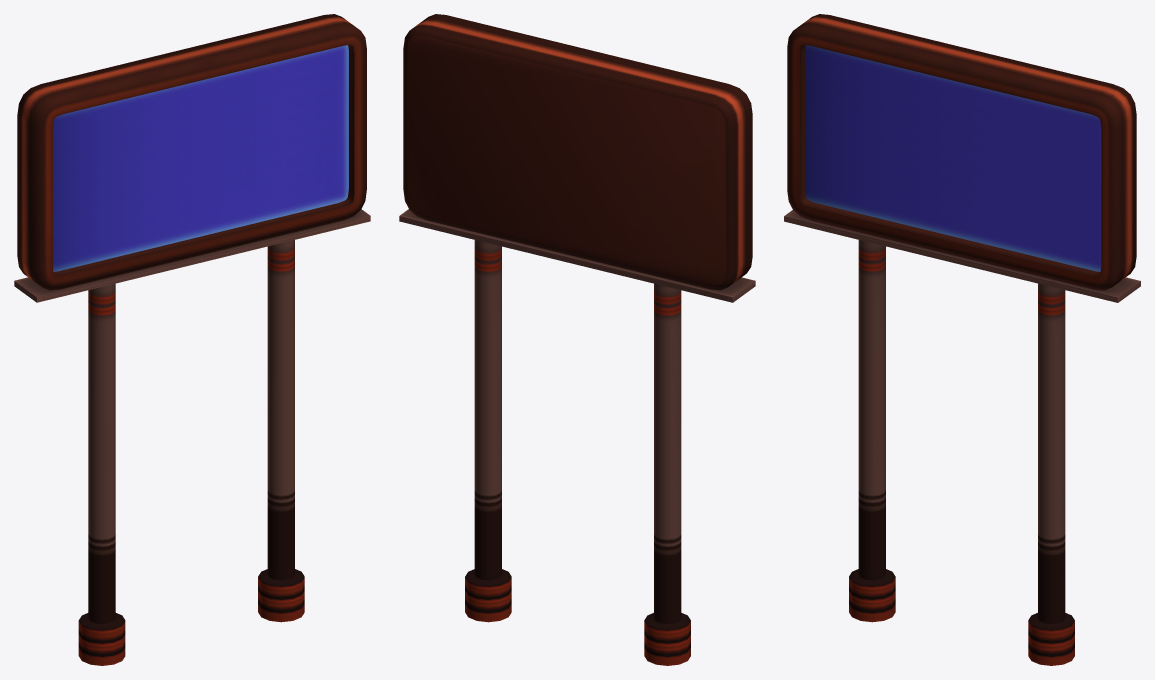
The model's file is Advertising_Pole_05.FBX.
3 renders of one model, left to right at view 1: azimuth 30°, elevation 25°; view 2: azimuth 150°, elevation 25°; view 3: azimuth 330°, elevation 25°, orthographic.
Visible parts, largest first — view 1: Advertising_Pole_05; view 2: Advertising_Pole_05; view 3: Advertising_Pole_05.
Part boxes in pixels (x1,y1,x2,y2): Advertising_Pole_05: (14, 14, 370, 665); Advertising_Pole_05: (399, 14, 755, 665); Advertising_Pole_05: (784, 14, 1140, 665).
Bounding box in the file's own units: 71.84 × 119 × 8.7.
